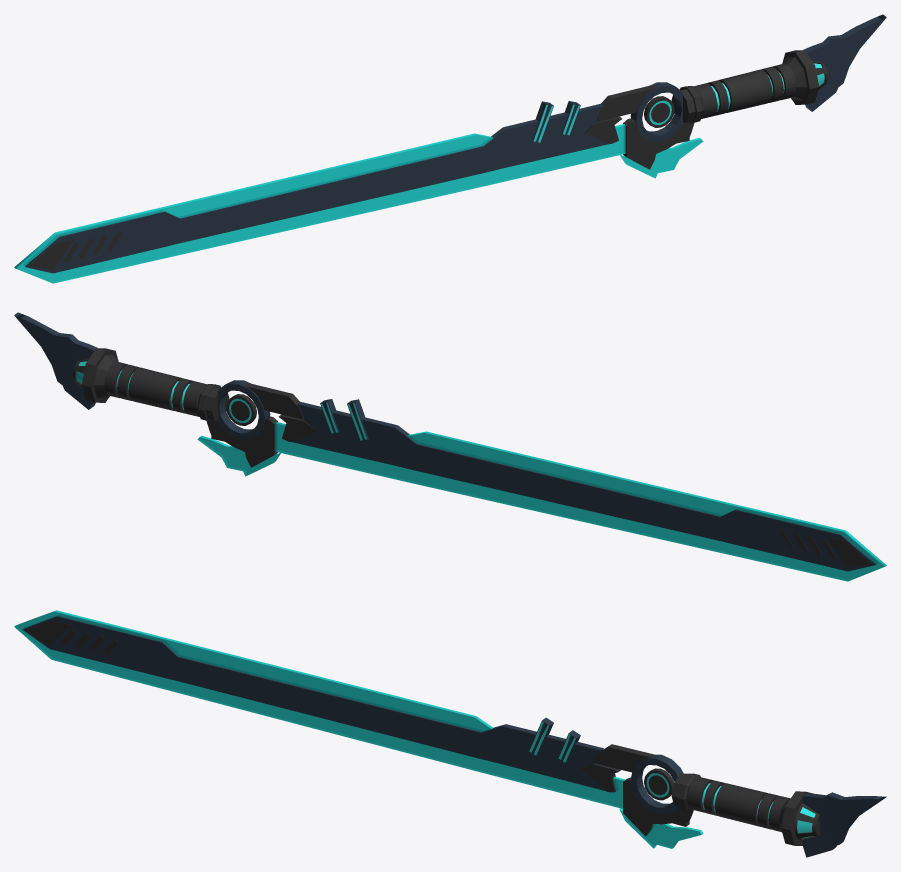
The model's file is weapon_sword.fbx.
The picture shows the model from 3 angles, top to bottom: view 1: azimuth 30°, elevation 25°; view 2: azimuth 150°, elevation 25°; view 3: azimuth 330°, elevation 25°; orthographic projection.
Visible parts, largest first — view 1: pCube15; view 2: pCube15; view 3: pCube15.
Boxes of the visible parts, x1,y1,x2,y2 form: pCube15: (14,14,886,283); pCube15: (14,312,886,581); pCube15: (14,610,886,857).
Bounding box in the file's own units: 16.37 × 1.91 × 0.9406.
